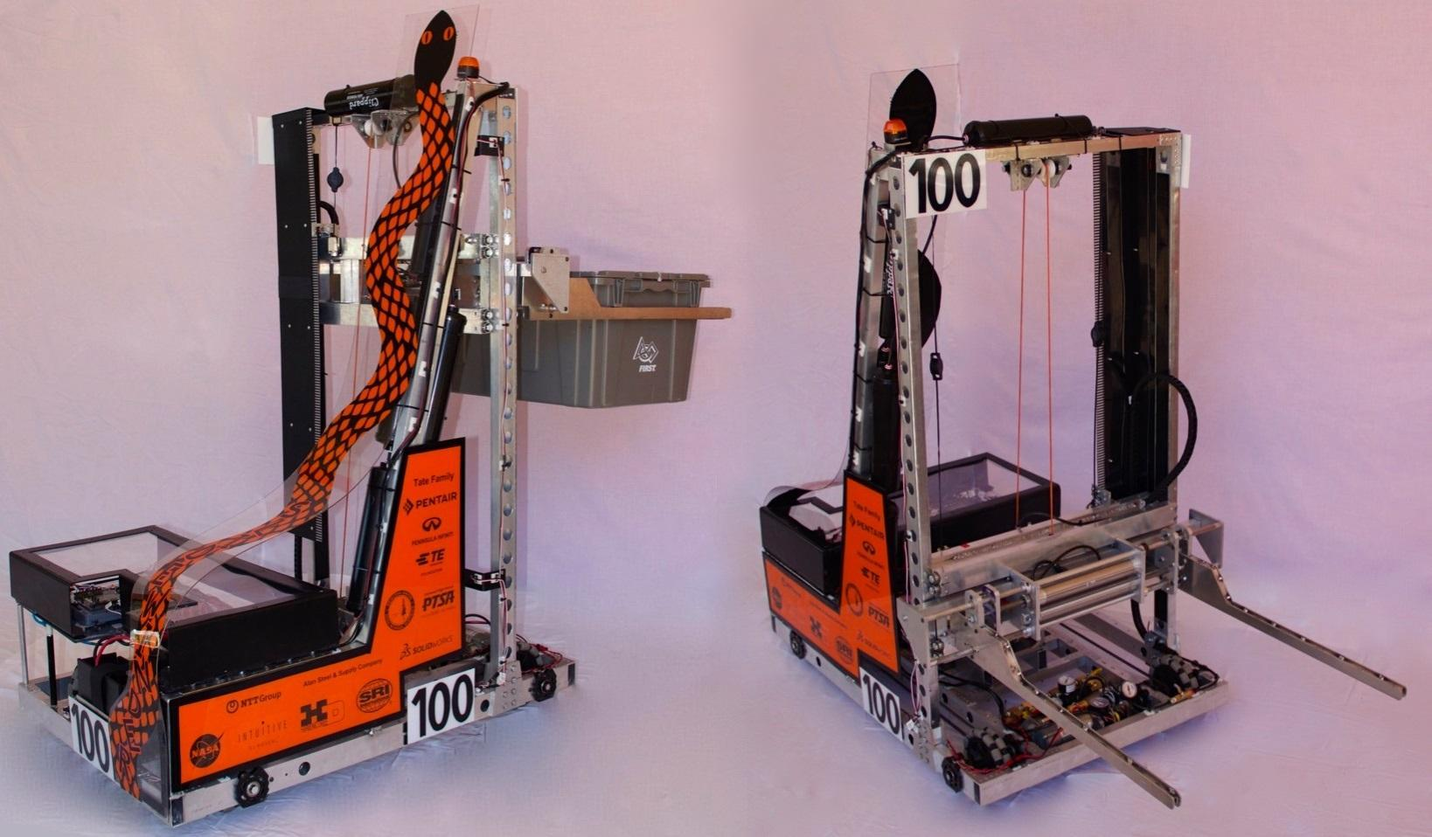robot: (0, 0, 734, 823), (749, 57, 1414, 828)
